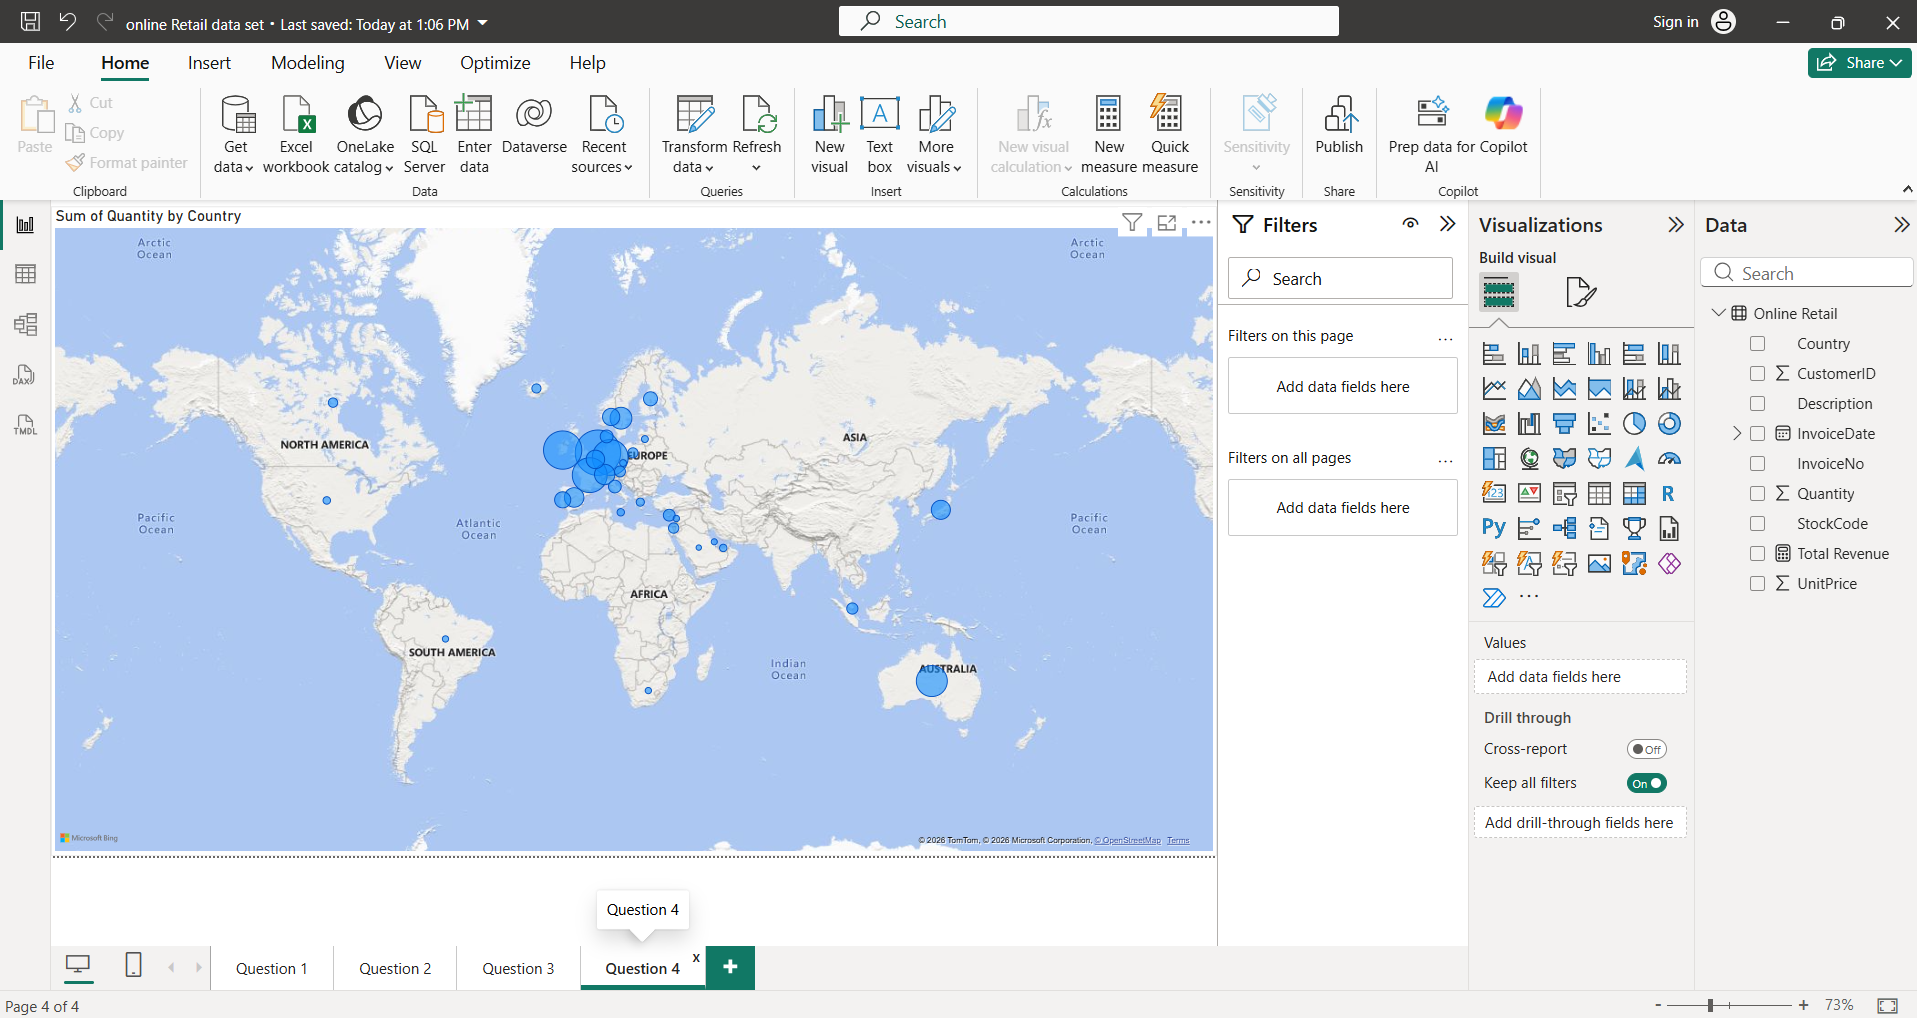

The dashboard page shown, as its layout file describes it:
{"tool":"powerbi","page":{"name":"Question 4","canvas":[1280,720],"ordinal":3},"visuals":[{"type":"map","fields":{"Category":["Online Retail.Country"],"Size":["Sum(Online Retail.Quantity)"]},"box":[0,6.8,1280,712.9],"z":0}]}

Visuals, with their boxes on the page's 1280x720 design canvas (x1, y1, x2, y2). These are canvas units, not pixel positions in the 1917x1018 screenshot, which may show the page scaled, cropped or inside an application window:
map - Online Retail.Country x Sum(Online Retail.Quantity): (left=0, top=7, right=1280, bottom=720)
